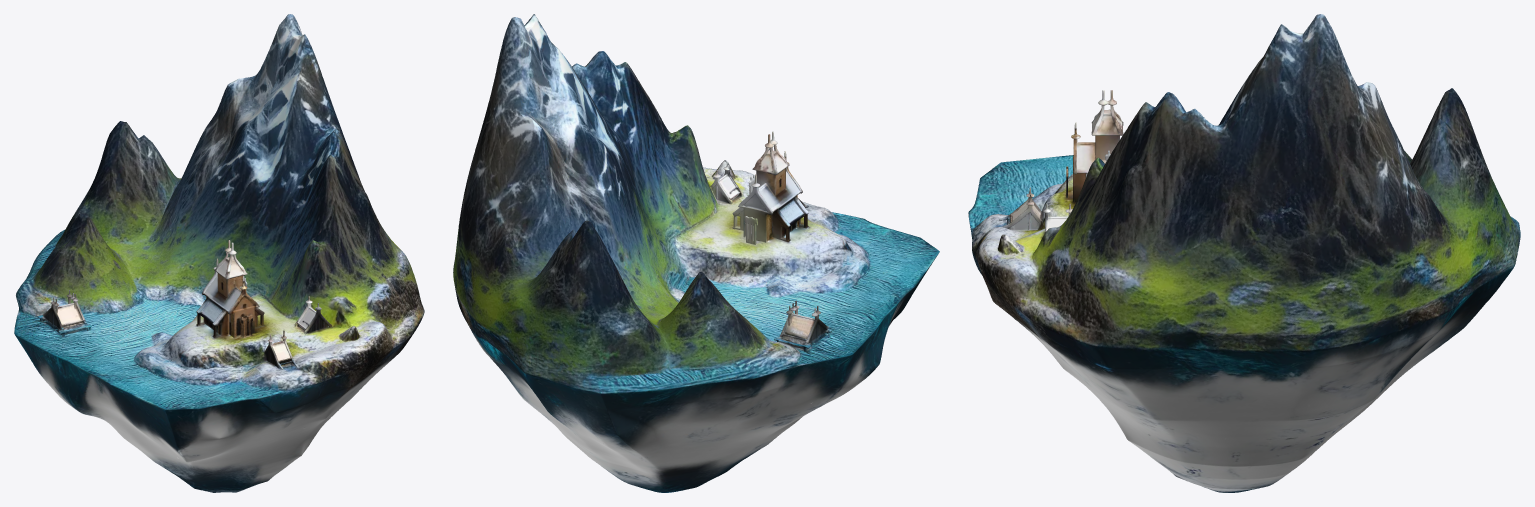
Rendered from Valhalla grok compress.glb.
The picture shows the model from 3 angles, left to right: view 1: azimuth 30°, elevation 25°; view 2: azimuth 150°, elevation 25°; view 3: azimuth 270°, elevation 25°; orthographic projection. The views are drawn at different scales.
Visible parts, largest first — view 1: node_0; view 2: node_0; view 3: node_0.
Part boxes in pixels (x1,y1,x2,y2): node_0: [14, 14, 424, 492]; node_0: [453, 14, 939, 492]; node_0: [968, 14, 1520, 492].
Size of the model in its own units: 0.8635 by 1.01 by 0.9531.
1 material, 1 textured.
